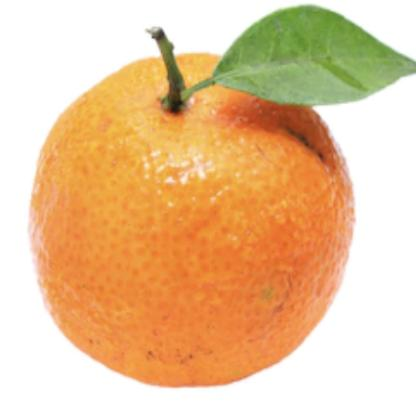fresh: (31, 48, 357, 388)
